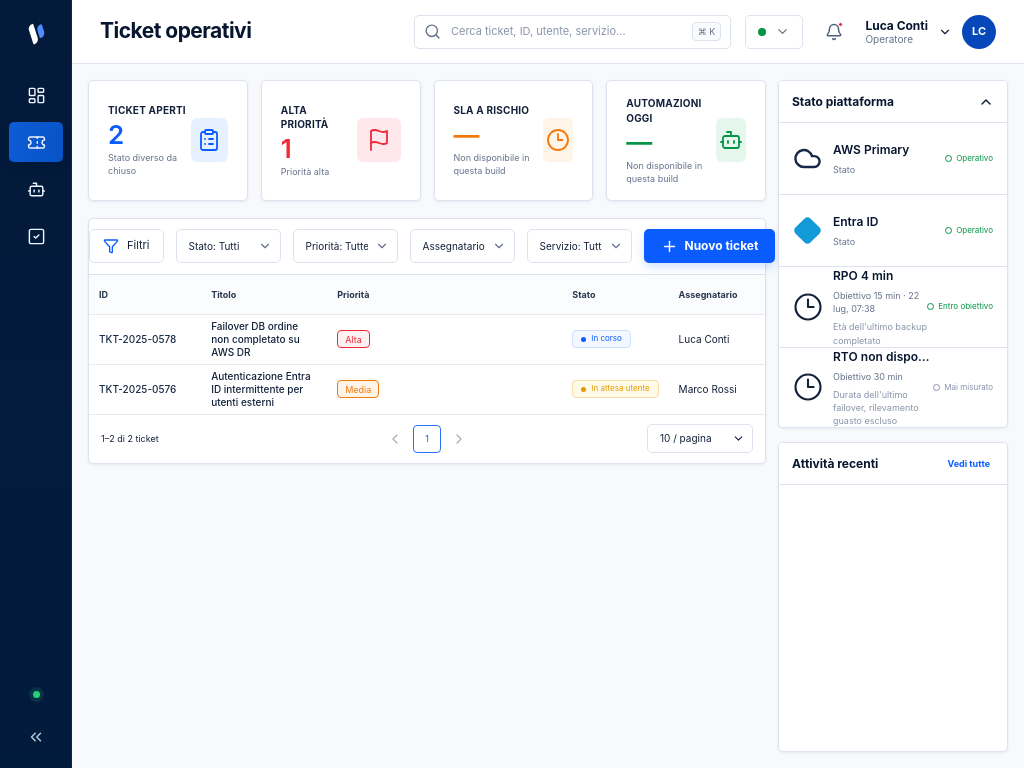
it: Helios Desk dashboard › filters ticket rows by free text and status
The width and height of the screenshot is (1024, 768).
Expected: the row "TKT-2025-0578" is shown, [89,315,765,365]
Step 1. Type "Entra ID" into the search field named "Cerca ticket" → (566, 31), box [449,22,684,40]
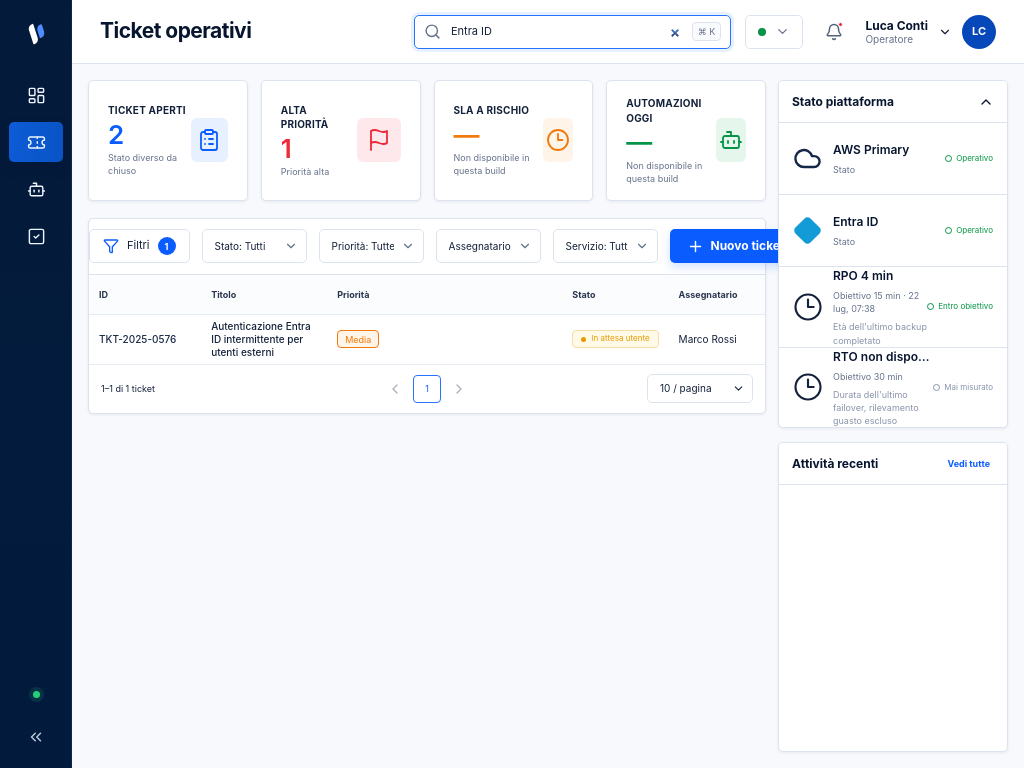
Expected: the row "TKT-2025-0576" is shown, [89,315,765,365]
Now the cell "TKT-2025-0578" is gone
Step 2. Clear the search field named "Cerca ticket" → (566, 31), box [449,22,684,40]
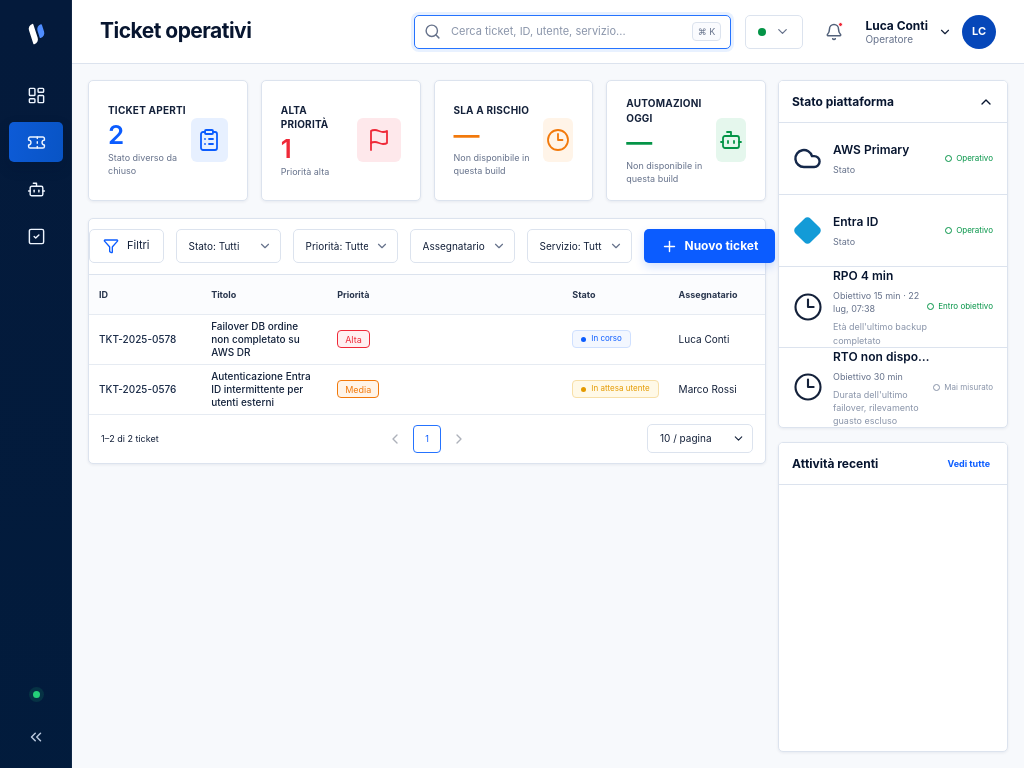
Step 3. Select "Stato: In corso" in the dropdown named "Filtra per stato" → (228, 246), box [176,229,280,263]
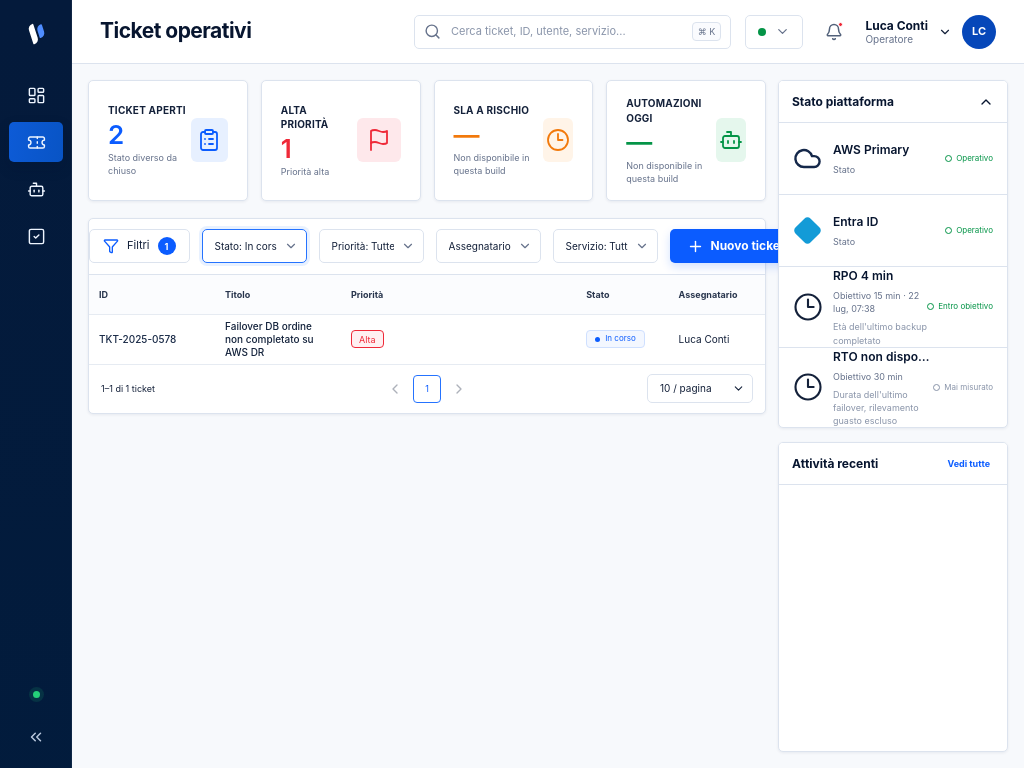
Now the row "TKT-2025-0578" is shown, box [89,315,765,365]
Now the cell "TKT-2025-0576" is gone
